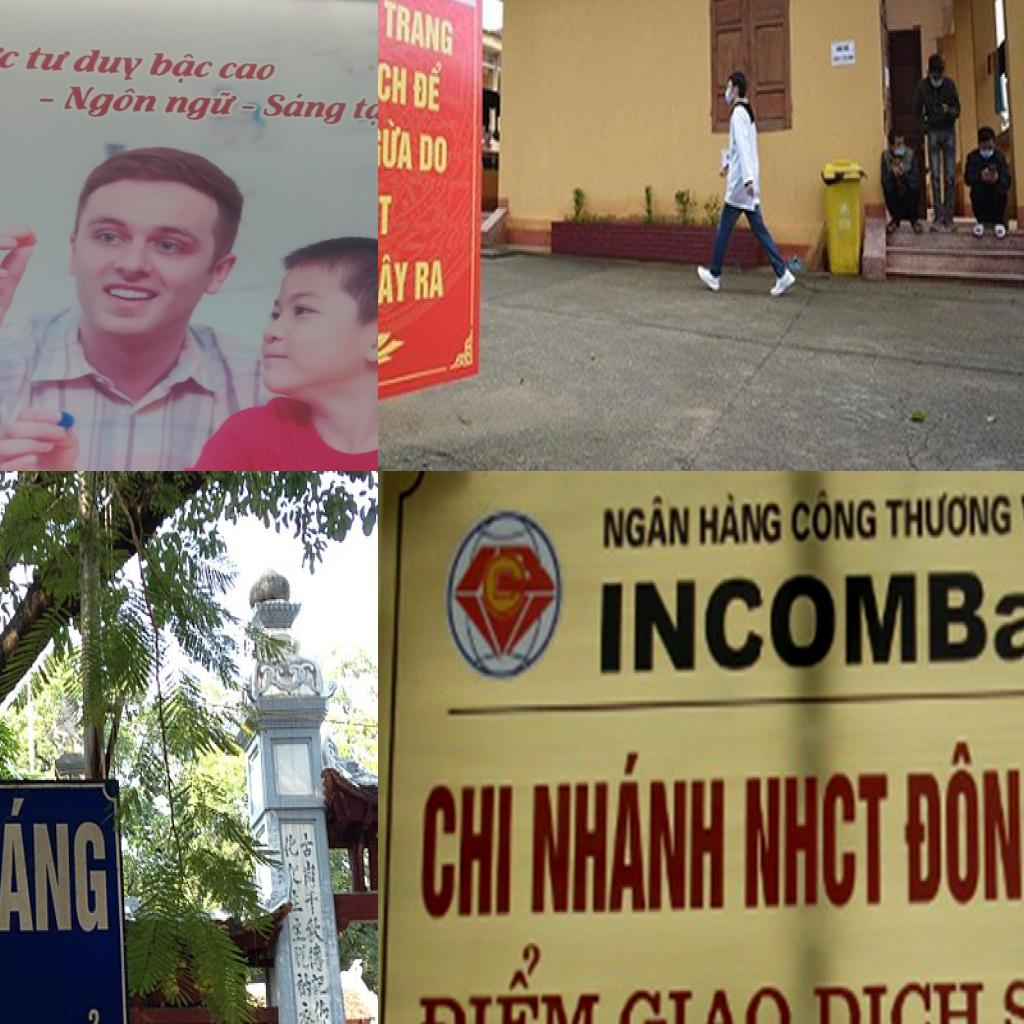text: (598, 564, 1024, 676), (531, 746, 726, 917), (744, 771, 889, 915), (901, 739, 1024, 907), (0, 781, 112, 943), (416, 941, 602, 1024), (421, 780, 514, 921), (812, 980, 987, 1024), (617, 985, 794, 1024), (885, 490, 1015, 540), (790, 485, 878, 546), (604, 493, 692, 551), (700, 490, 782, 547), (381, 0, 454, 61), (58, 83, 161, 120), (257, 88, 352, 128), (158, 89, 246, 126), (67, 45, 146, 83), (143, 49, 219, 87), (378, 109, 416, 176), (378, 40, 410, 109), (410, 52, 444, 115), (378, 252, 413, 312), (214, 57, 280, 84), (21, 43, 76, 73), (412, 258, 447, 304), (418, 130, 450, 178), (0, 37, 26, 78), (378, 180, 396, 239), (347, 96, 378, 129), (239, 103, 261, 112), (36, 96, 60, 104)
